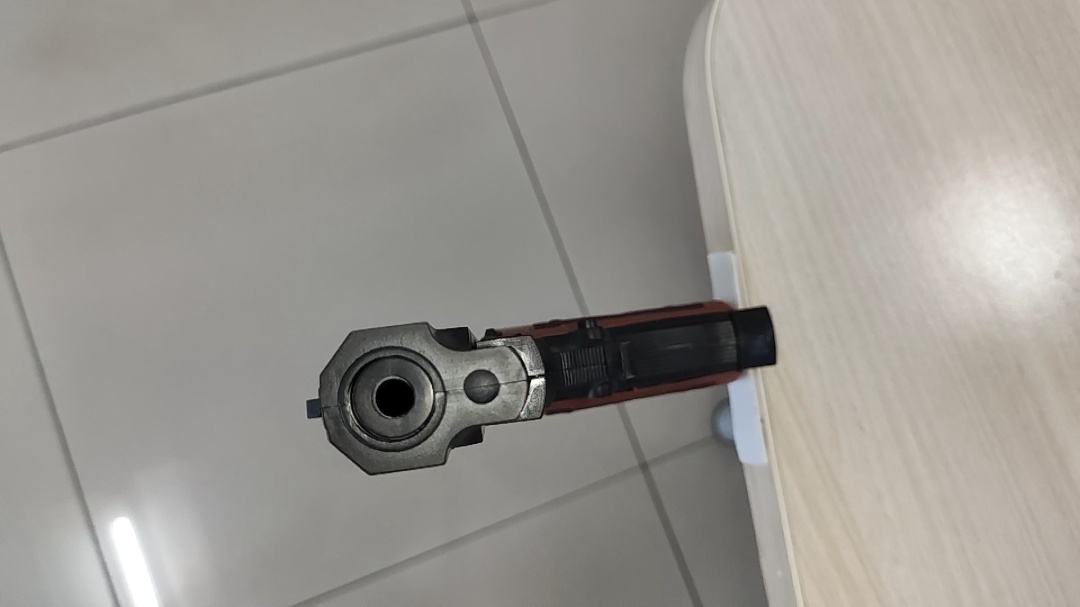gun: (390, 199, 417, 244)
